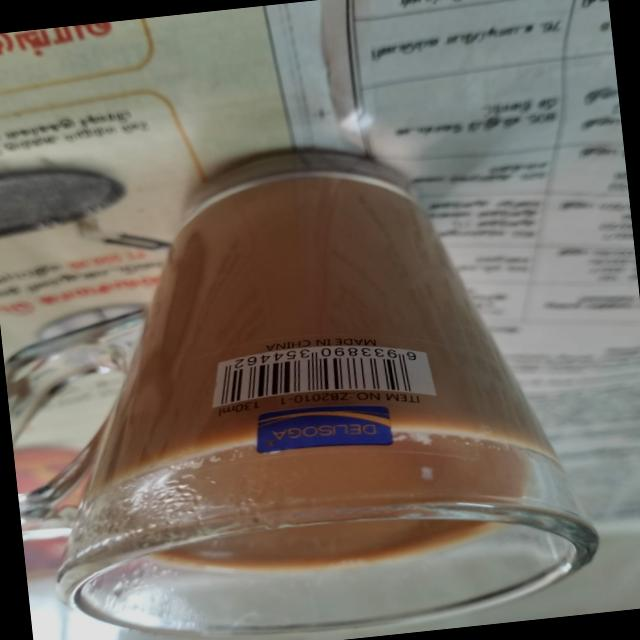glass-VX4N: (0, 119, 610, 640)
